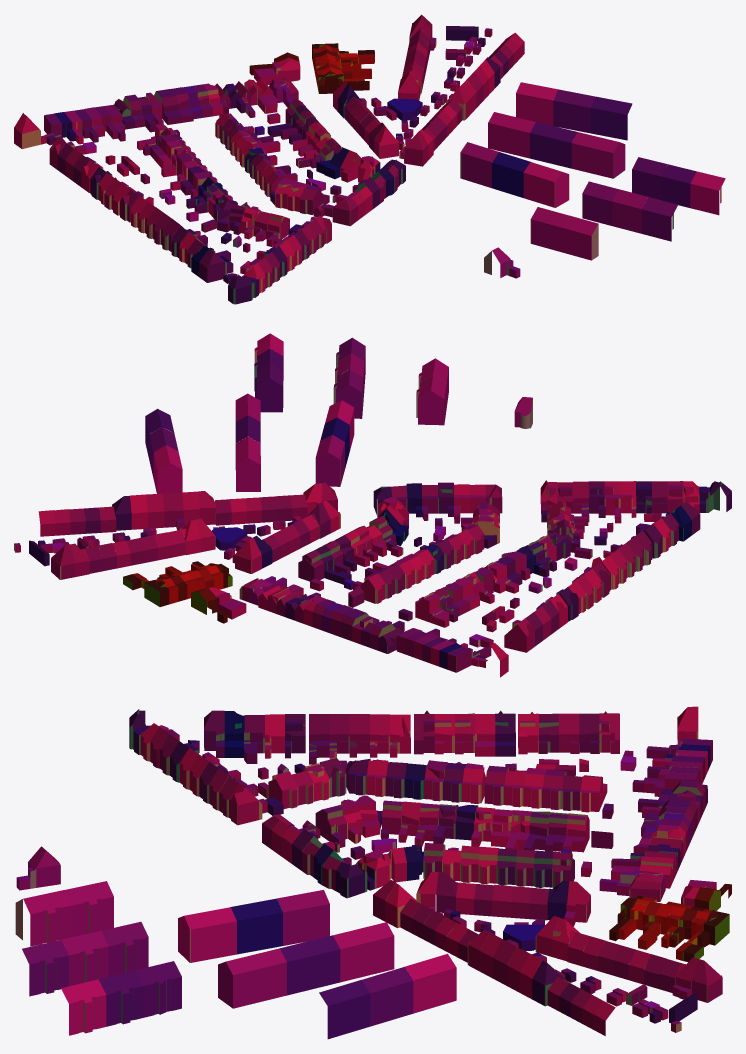
Rendered from buildings_9_13.glb.
3 renders of one model, top to bottom at view 1: azimuth 30°, elevation 25°; view 2: azimuth 150°, elevation 25°; view 3: azimuth 270°, elevation 25°, orthographic. The views are drawn at different scales.
Parts seen in each view (by area): view 1: buildings_9_13; view 2: buildings_9_13; view 3: buildings_9_13.
Boxes of the visible parts, <box> form: buildings_9_13: <box>14,14,725,304</box>; buildings_9_13: <box>14,333,731,677</box>; buildings_9_13: <box>15,706,731,1039</box>.
Bounding box in the file's own units: 211 × 13.68 × 212.
